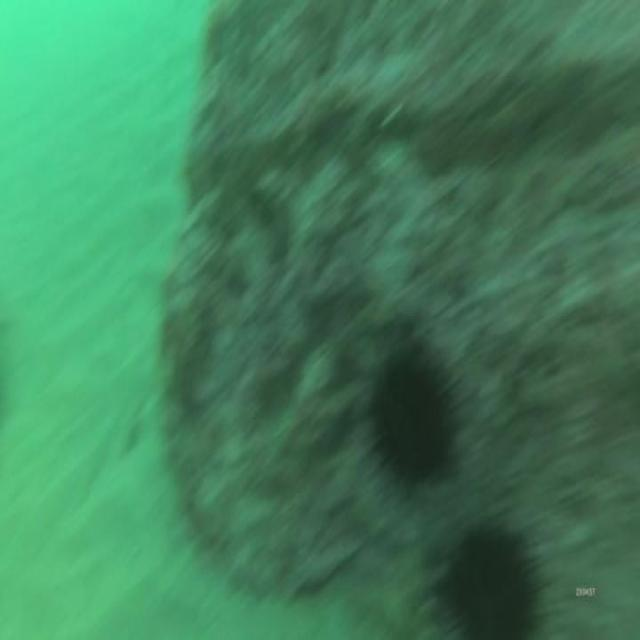echinus: (442, 528, 538, 640), (372, 351, 450, 483)
